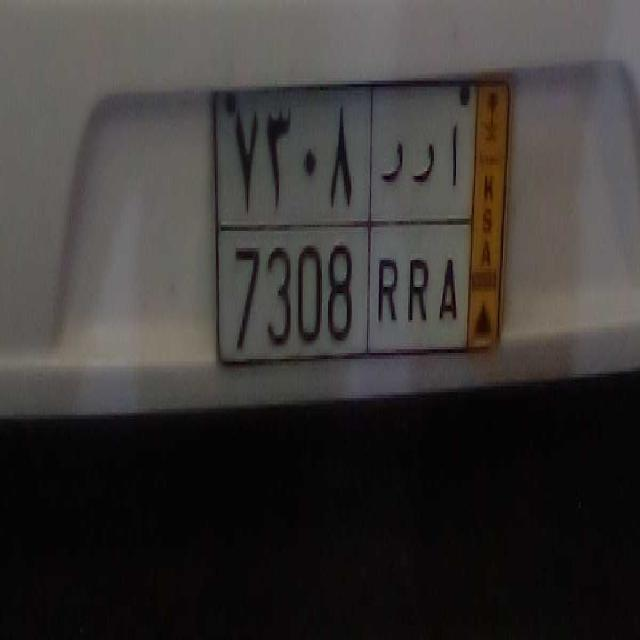license_plate: (214, 228, 472, 373)
